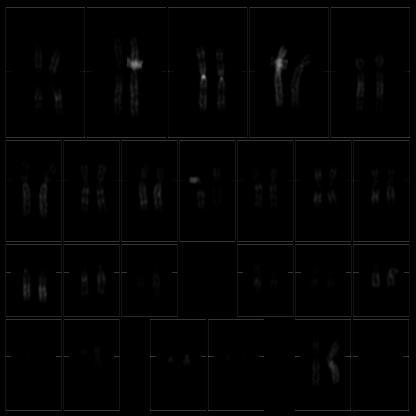1: (45, 27, 69, 127), (32, 28, 46, 126)
10: (266, 160, 286, 218), (248, 160, 266, 216)
11: (310, 157, 325, 222), (325, 158, 339, 222)
12: (368, 156, 383, 222), (384, 158, 398, 222)
13: (20, 256, 34, 307), (35, 256, 49, 307)
14: (76, 256, 92, 302), (93, 256, 109, 302)
15: (133, 258, 149, 307), (150, 257, 166, 306)
16: (249, 254, 267, 298), (266, 255, 284, 299)
17: (306, 252, 323, 302), (322, 251, 338, 301)
18: (384, 252, 402, 298), (368, 252, 382, 300)
19: (17, 338, 33, 378), (32, 338, 48, 378)
2: (124, 26, 145, 124), (110, 28, 126, 126)
20: (90, 338, 104, 379), (77, 338, 90, 378)
21: (163, 337, 179, 374), (180, 338, 196, 375)
22: (221, 341, 237, 382), (236, 341, 252, 382)
3: (192, 40, 213, 118), (212, 40, 233, 118)
4: (266, 38, 290, 113), (288, 38, 312, 113)
5: (353, 47, 369, 118), (371, 46, 387, 117)
6: (36, 152, 60, 226), (17, 152, 36, 224)
7: (93, 154, 110, 222), (77, 154, 93, 222)
8: (136, 156, 152, 220), (150, 156, 166, 220)
9: (206, 158, 232, 216), (184, 164, 209, 221)
X: (322, 325, 344, 398), (306, 324, 324, 398)
